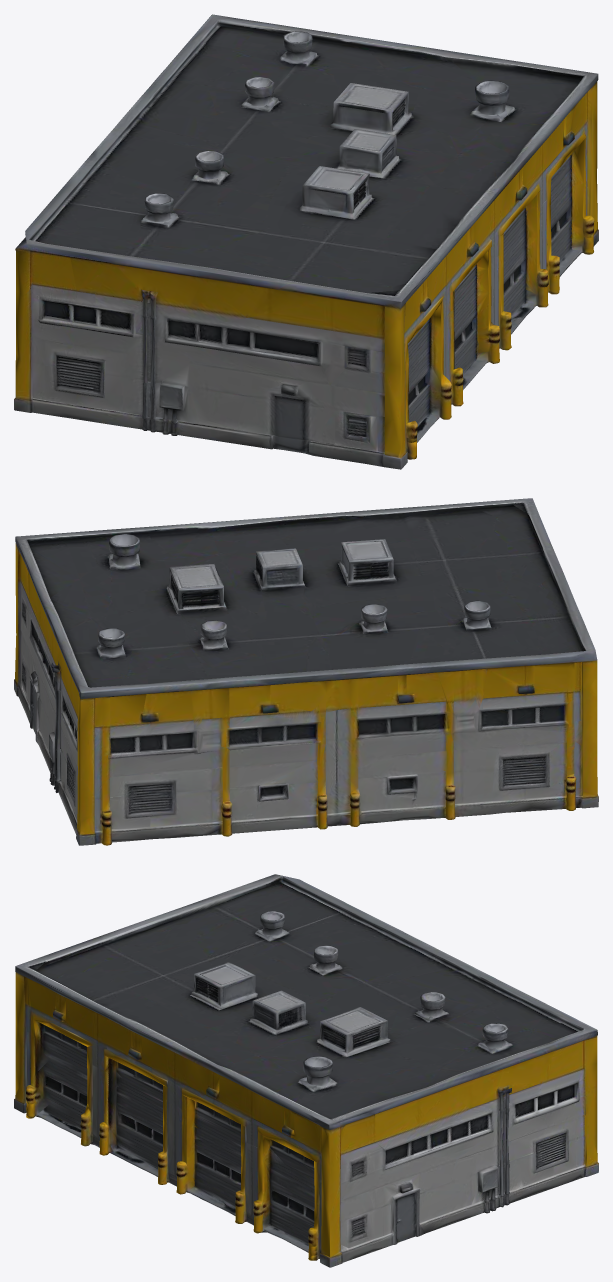
Rendered from gse_depot.glb.
The picture shows the model from 3 angles, top to bottom: view 1: azimuth 30°, elevation 25°; view 2: azimuth 150°, elevation 25°; view 3: azimuth 270°, elevation 25°; orthographic projection. The views are drawn at different scales.
Visible parts, largest first — view 1: tripo_node_86dc3dde-5ea0-4414-9426-562d9bc29faf; view 2: tripo_node_86dc3dde-5ea0-4414-9426-562d9bc29faf; view 3: tripo_node_86dc3dde-5ea0-4414-9426-562d9bc29faf.
Part boxes in pixels (x1,y1,x2,y2): tripo_node_86dc3dde-5ea0-4414-9426-562d9bc29faf: (14,14,598,469); tripo_node_86dc3dde-5ea0-4414-9426-562d9bc29faf: (14,498,598,845); tripo_node_86dc3dde-5ea0-4414-9426-562d9bc29faf: (14,874,598,1267).
Size of the model in its own units: 1.18 by 0.3454 by 1.15.
1 material, 1 textured.
